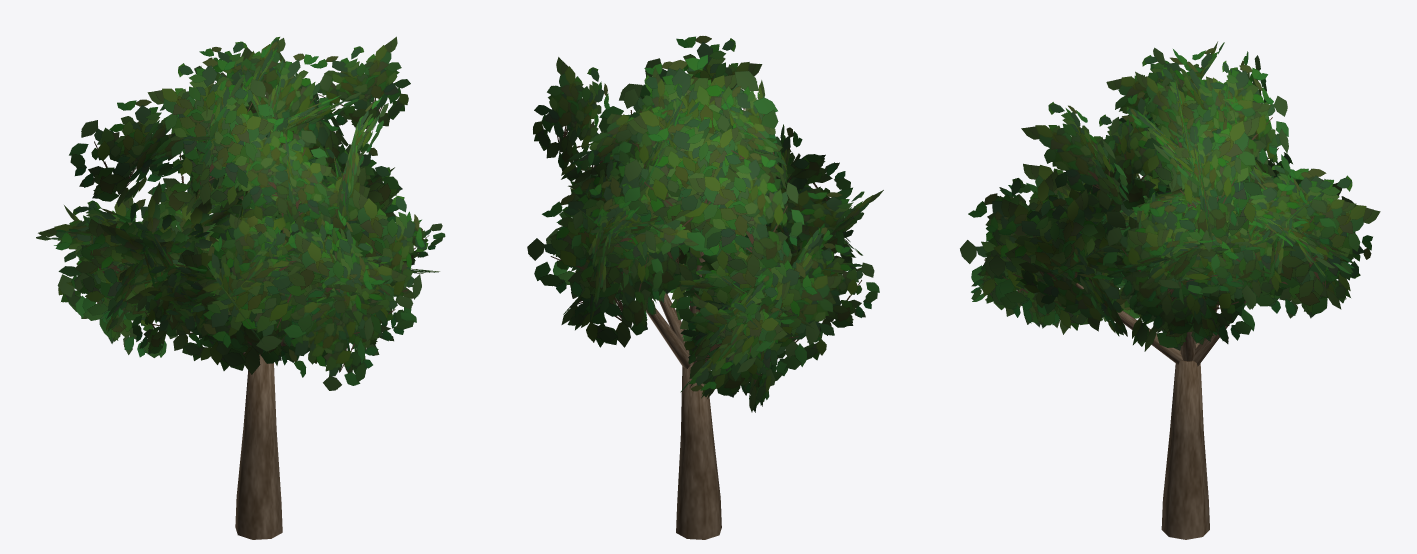
Rendered from tree_deciduous.glb.
The picture shows the model from 3 angles, left to right: view 1: azimuth 30°, elevation 25°; view 2: azimuth 150°, elevation 25°; view 3: azimuth 270°, elevation 25°; orthographic projection. The views are drawn at different scales.
Parts seen in each view (by area): view 1: TreeDeciduous_Foliage, TreeDeciduous_Bark; view 2: TreeDeciduous_Foliage, TreeDeciduous_Bark; view 3: TreeDeciduous_Foliage, TreeDeciduous_Bark.
Part boxes in pixels (x1,y1,x2,y2): TreeDeciduous_Foliage: (36, 36, 445, 390); TreeDeciduous_Bark: (235, 338, 293, 539); TreeDeciduous_Foliage: (527, 36, 883, 412); TreeDeciduous_Bark: (646, 252, 721, 539); TreeDeciduous_Foliage: (960, 41, 1380, 351); TreeDeciduous_Bark: (1075, 203, 1246, 539).
Size of the model in its own units: 7.01 by 9.37 by 7.78.
Materials: 2 (2 with a texture image).
